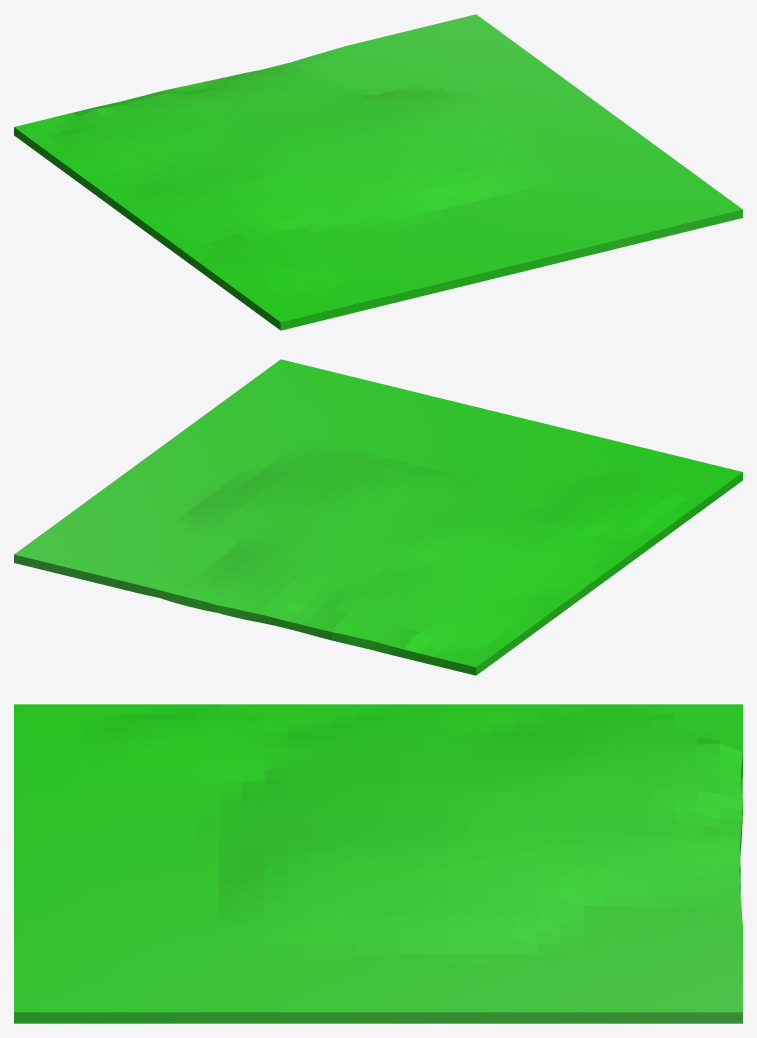
Rendered from terreno.fbx.
3 renders of one model, top to bottom at view 1: azimuth 30°, elevation 25°; view 2: azimuth 150°, elevation 25°; view 3: azimuth 270°, elevation 25°, orthographic. The views are drawn at different scales.
Parts seen in each view (by area): view 1: Plane; view 2: Plane; view 3: Plane.
Boxes of the visible parts, bbox=[...] form: Plane: bbox=[14, 14, 742, 330]; Plane: bbox=[14, 359, 742, 675]; Plane: bbox=[14, 704, 742, 1023].
Bounding box in the file's own units: 2012 × 106 × 2012.
